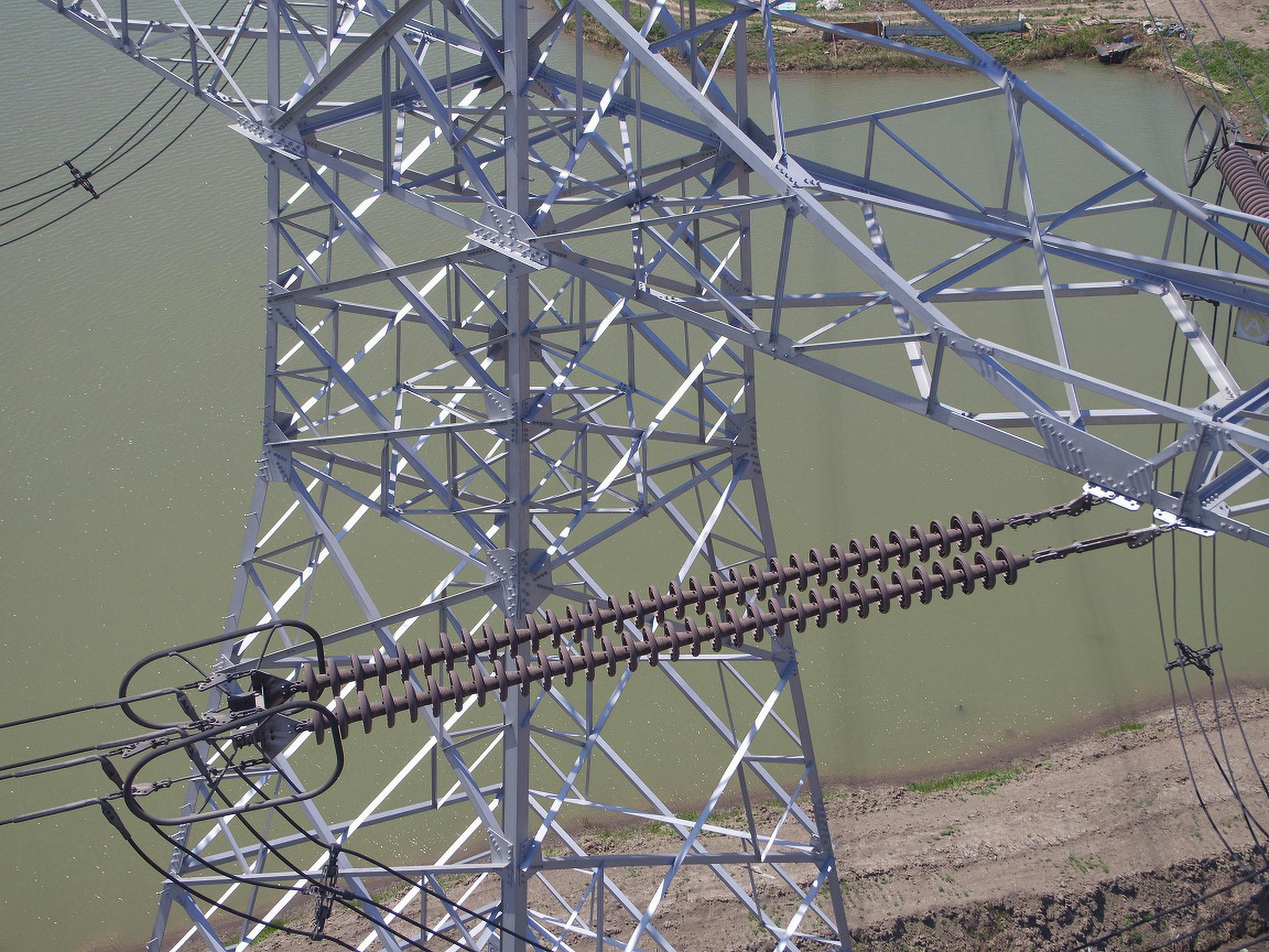insulator: (292, 505, 1022, 749), (1210, 141, 1269, 263)
